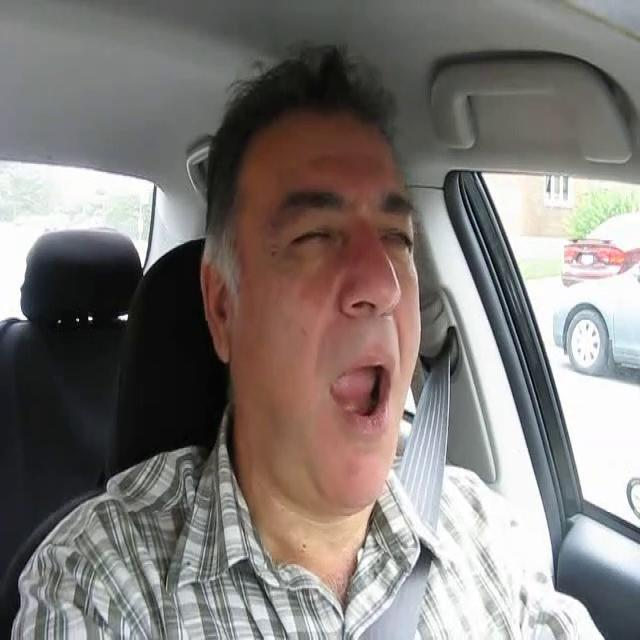open-mouth: (326, 354, 393, 434)
